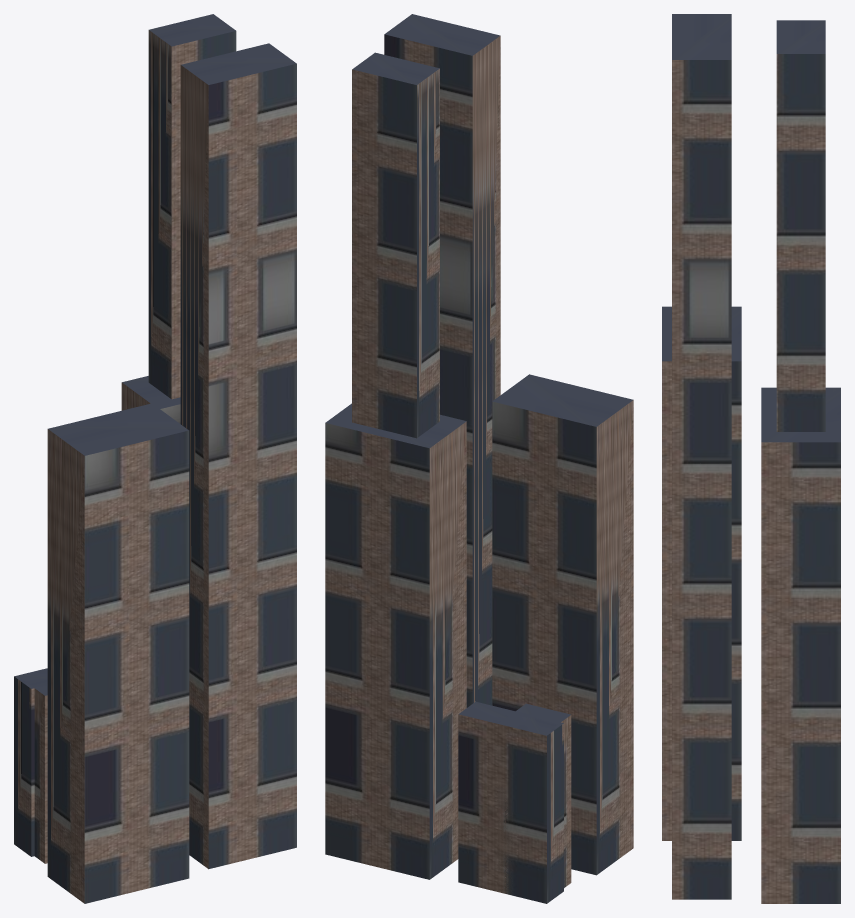
Rendered from block_24.obj.
3 renders of one model, left to right at view 1: azimuth 30°, elevation 25°; view 2: azimuth 150°, elevation 25°; view 3: azimuth 270°, elevation 25°, orthographic. The views are drawn at different scales.
Parts seen in each view (by area): view 1: b3, b1, b2, b0; view 2: b2, b1, b3, b0; view 3: b2, b3, b1.
Part boxes in pixels (x1,y1,x2,y2): b3: [180, 43, 296, 869]; b1: [47, 403, 189, 903]; b2: [121, 14, 236, 423]; b0: [14, 668, 47, 863]; b2: [325, 52, 466, 879]; b1: [492, 374, 633, 875]; b3: [384, 14, 500, 707]; b0: [458, 701, 571, 903]; b2: [761, 20, 840, 903]; b3: [672, 14, 731, 899]; b1: [662, 306, 741, 840].
Size of the model in its own units: 4.2 by 14 by 2.7.
